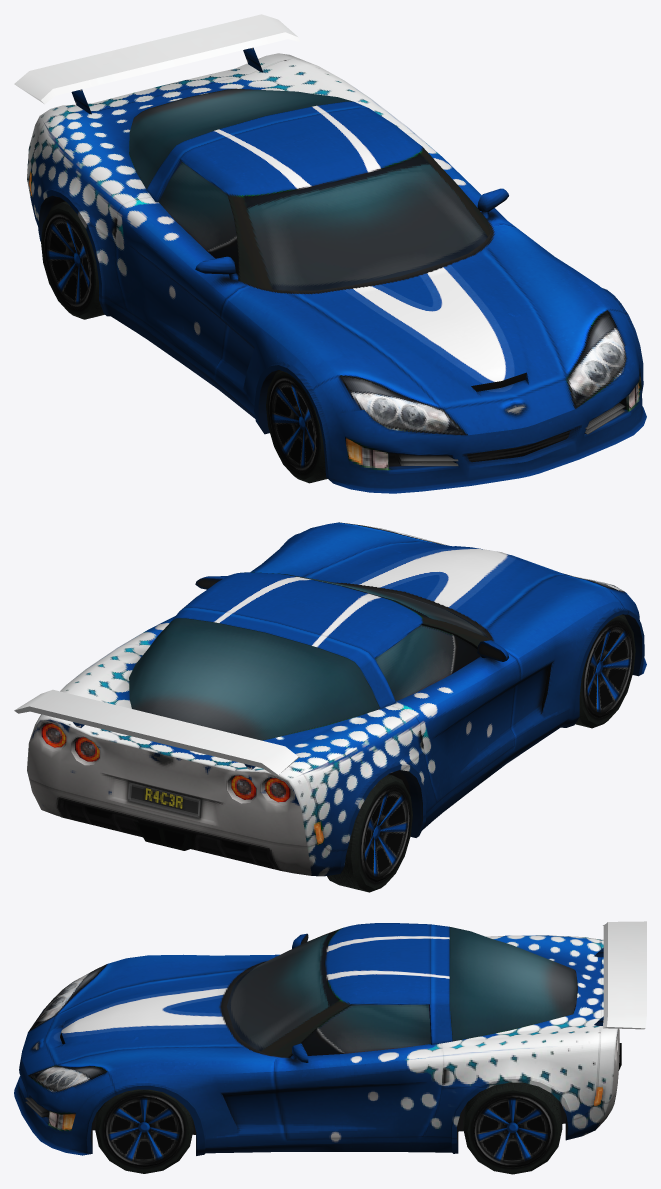
The picture shows the model from 3 angles, top to bottom: view 1: azimuth 30°, elevation 25°; view 2: azimuth 150°, elevation 25°; view 3: azimuth 270°, elevation 25°; orthographic projection. The views are drawn at different scales.
Visible parts, largest first — view 1: player_chassis, veh_wheel_b, veh_wheel_fr; view 2: player_chassis, veh_wheel_b, veh_wheel_fr; view 3: player_chassis, veh_wheel_b, veh_wheel_fl.
Boxes of the visible parts, x1,y1,x2,y2 form: player_chassis: (14,14,646,493); veh_wheel_b: (41,201,104,319); veh_wheel_fr: (266,370,327,483); player_chassis: (14,522,646,876); veh_wheel_b: (61,774,412,892); veh_wheel_fr: (575,614,635,728); player_chassis: (14,921,646,1155); veh_wheel_b: (463,1082,562,1174); veh_wheel_fl: (95,1089,193,1173).
Bounding box in the file's own units: 213 × 121 × 437.
